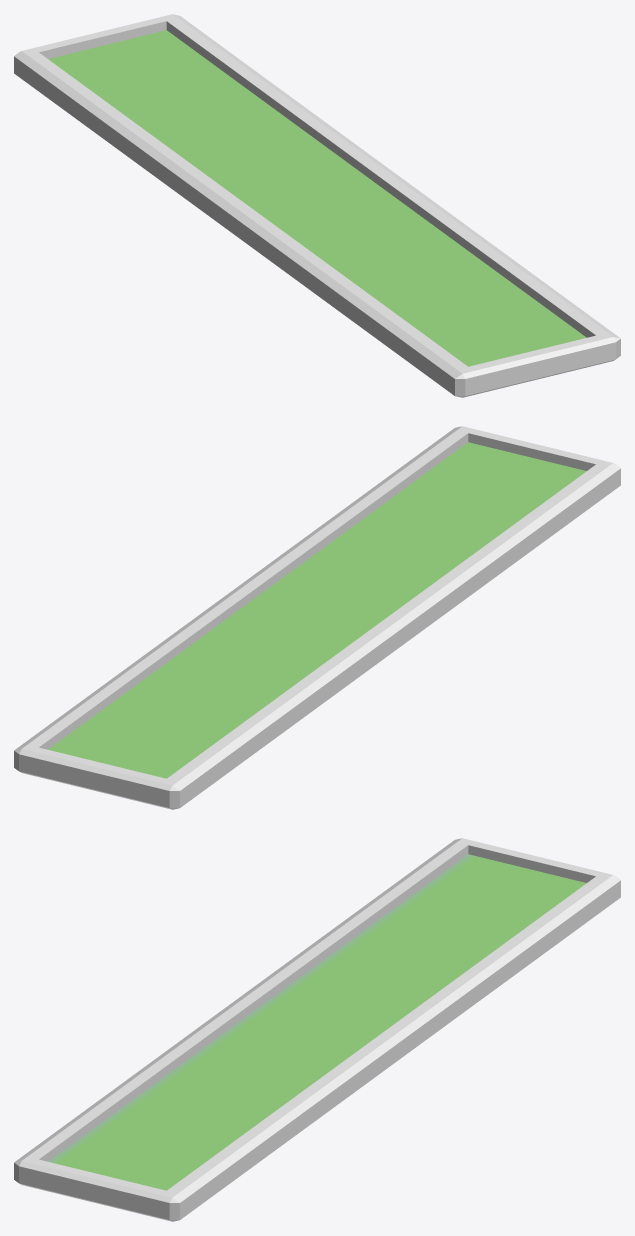
Rendered from cube_7_2_world_ap_0_lev1.glb.
3 renders of one model, top to bottom at view 1: azimuth 30°, elevation 25°; view 2: azimuth 150°, elevation 25°; view 3: azimuth 330°, elevation 25°, orthographic.
Parts seen in each view (by area): view 1: cube_7_2_world_ap_0_lev1; view 2: cube_7_2_world_ap_0_lev1; view 3: cube_7_2_world_ap_0_lev1.
Part boxes in pixels (left/top/right/bottom): cube_7_2_world_ap_0_lev1: left=14, top=14, right=620, bottom=397; cube_7_2_world_ap_0_lev1: left=14, top=426, right=620, bottom=809; cube_7_2_world_ap_0_lev1: left=14, top=838, right=620, bottom=1221.
Bounding box in the file's own units: 1.17 × 0.1615 × 5.42.
Materials: 1 (1 with a texture image).
